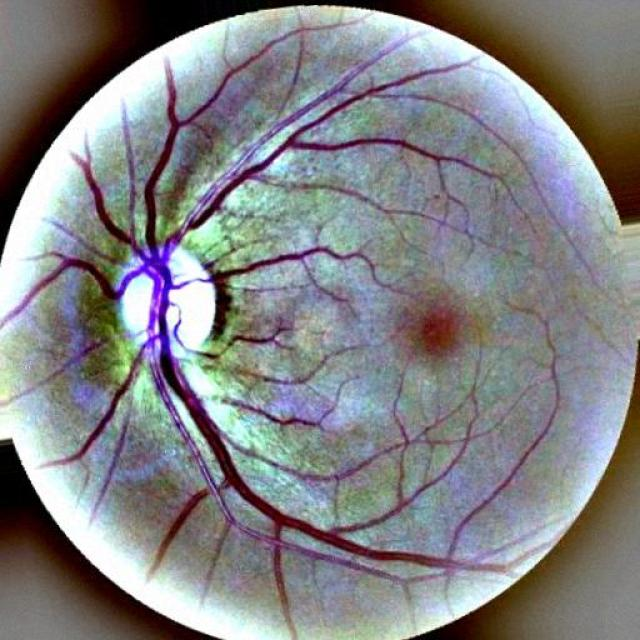Macula: (397, 301, 472, 368)
Nerves: (56, 315, 382, 586), (66, 51, 362, 314), (155, 305, 433, 576), (23, 253, 132, 320)
Optic Disk: (110, 243, 212, 364)
